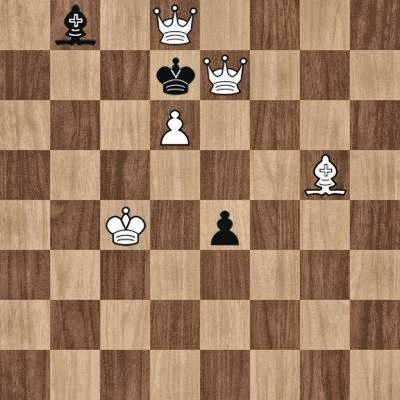black-bishop: (50, 0, 100, 50)
black-king: (150, 50, 200, 100)
black-pawn: (200, 200, 250, 250)
white-bishop: (300, 150, 350, 200)
white-king: (100, 200, 150, 250)
white-pawn: (150, 100, 200, 150)
white-queen: (150, 0, 200, 50), (200, 50, 250, 100)
